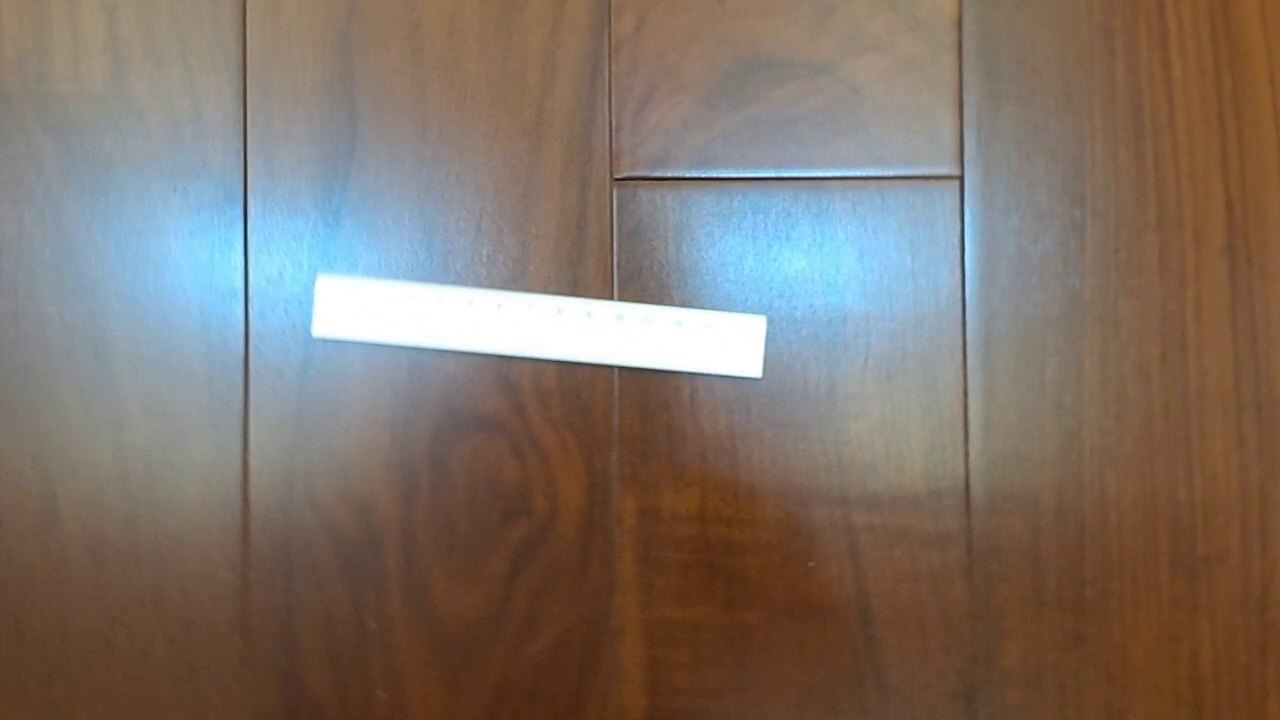ruler: (310, 272, 768, 380)
